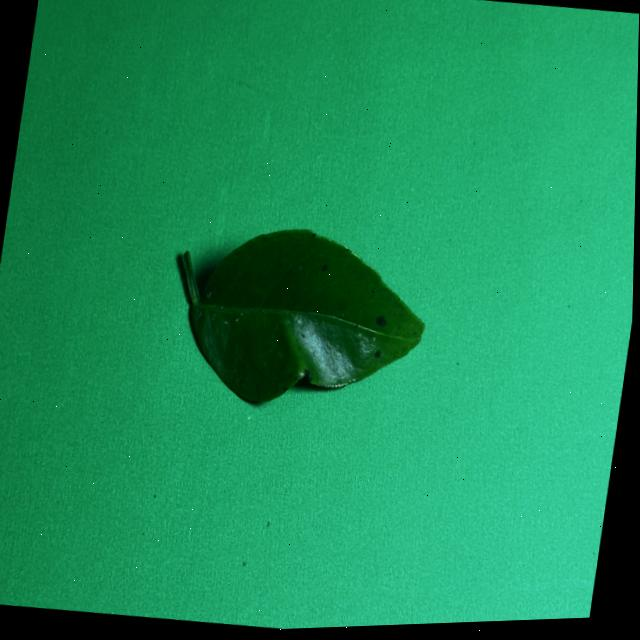sooty_mold: (183, 230, 422, 401)
